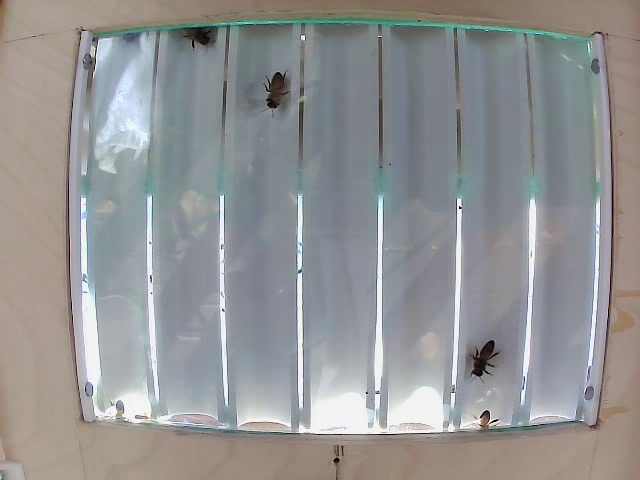bee: (470, 338, 502, 379), (258, 68, 286, 113), (184, 23, 213, 52)
